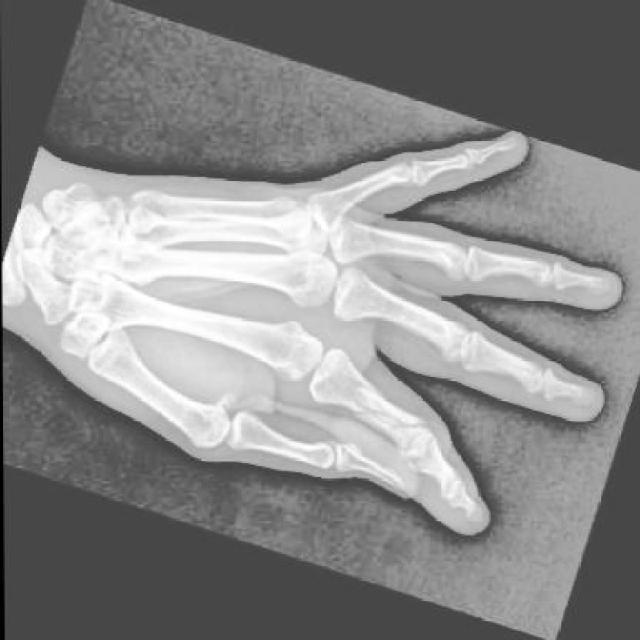Fracture: (328, 382, 441, 461)
